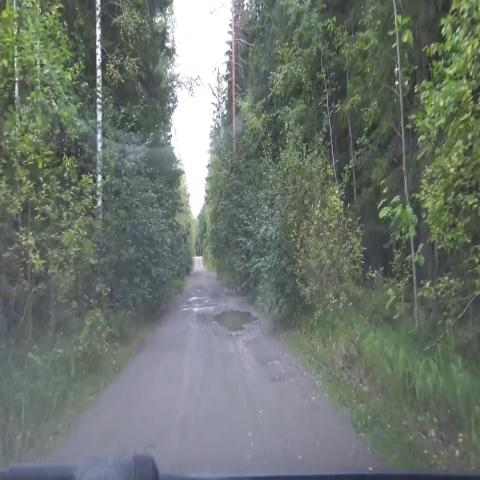pothole: (209, 297, 262, 344), (179, 286, 215, 326)
